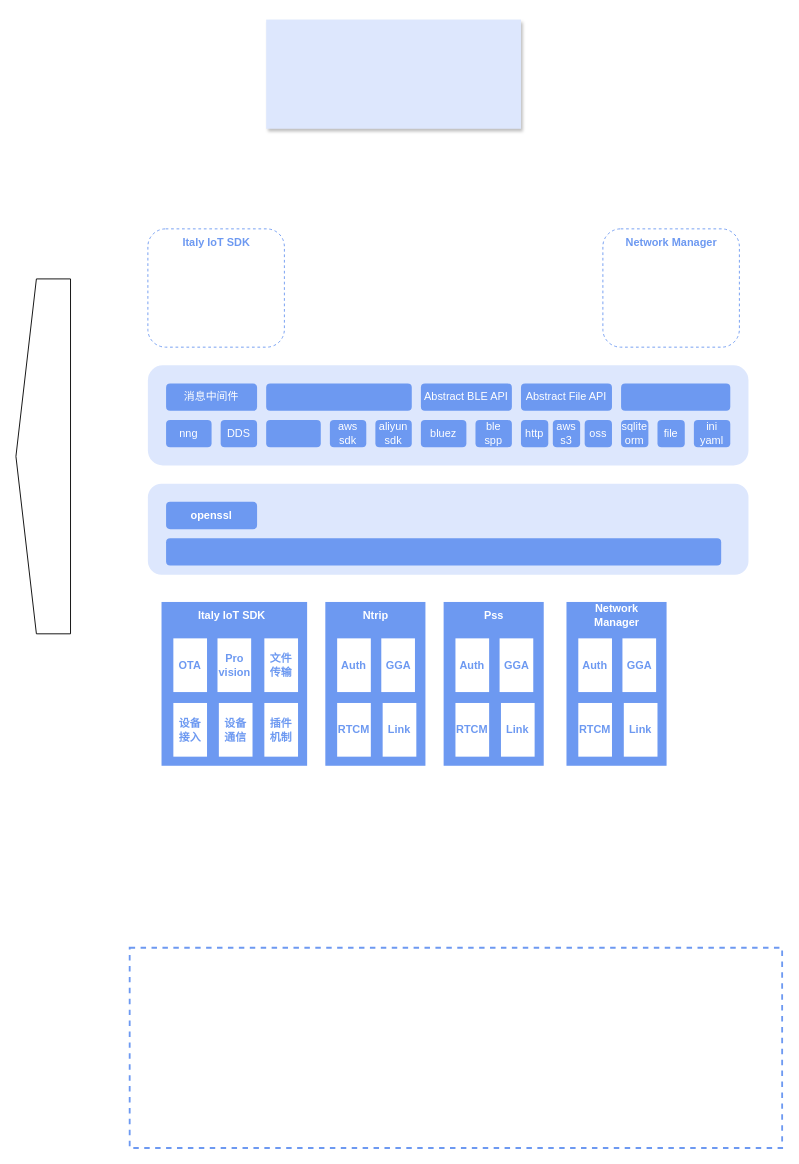
The diagram is 799 pixels wide and 1164 high, and some of its shapes have lost their labels. The centre of each missing label's shape, as x and y in pixels:
"Abstract MQTT API" goes at point (338, 396).
"Linux" goes at point (443, 551).
"mosquitto" goes at point (293, 433).
"Persistent Layer" goes at point (675, 396).
